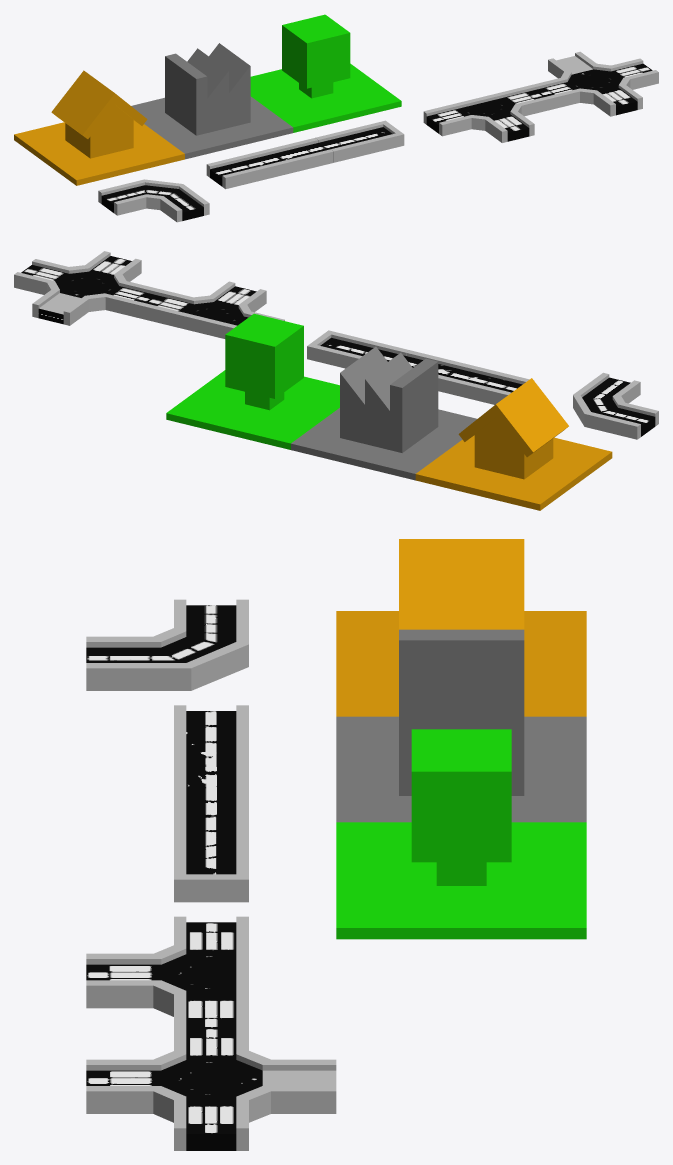
Rendered from roads.dae.
3 views of the same model, one above another, from view 1: azimuth 30°, elevation 25°; view 2: azimuth 150°, elevation 25°; view 3: azimuth 270°, elevation 25° (orthographic). The views are drawn at different scales.
Visible parts, largest first — view 1: Cube.001, Cube.002, Cube, road_cross_4, road_cross_3, road_straight, road_turn, road_stub; view 2: Cube.001, Cube.002, Cube, road_cross_4, road_cross_3, road_turn, road_straight, road_stub; view 3: Cube.002, Cube.001, Cube, road_cross_4, road_cross_3, road_turn, road_straight, road_stub.
Boxes of the visible parts, x1=… form: Cube.001: x1=131, y1=43, x2=293, y2=159; Cube.002: x1=250, y1=14, x2=401, y2=132; Cube: x1=14, y1=70, x2=184, y2=185; road_cross_4: x1=532, y1=51, x2=658, y2=116; road_cross_3: x1=423, y1=85, x2=550, y2=142; road_straight: x1=206, y1=138, x2=333, y2=189; road_turn: x1=98, y1=179, x2=209, y2=222; road_stub: x1=315, y1=120, x2=404, y2=162; Cube.001: x1=291, y1=346, x2=476, y2=480; Cube.002: x1=166, y1=313, x2=339, y2=449; Cube: x1=415, y1=378, x2=612, y2=510; road_cross_4: x1=14, y1=251, x2=159, y2=325; road_cross_3: x1=138, y1=281, x2=284, y2=338; road_turn: x1=573, y1=372, x2=658, y2=439; road_straight: x1=404, y1=350, x2=534, y2=404; road_stub: x1=307, y1=330, x2=409, y2=368; Cube.002: x1=336, y1=729, x2=586, y2=939; Cube.001: x1=336, y1=629, x2=586, y2=822; Cube: x1=336, y1=539, x2=586, y2=716; road_cross_4: x1=86, y1=1022, x2=336, y2=1150; road_cross_3: x1=86, y1=916, x2=248, y2=1028; road_turn: x1=86, y1=599, x2=248, y2=690; road_straight: x1=174, y1=705, x2=248, y2=816; road_stub: x1=174, y1=811, x2=248, y2=902.
Bounding box in the file's own units: 0.1 × 0.04 × 0.012.
Materials: 7 (3 with a texture image).
